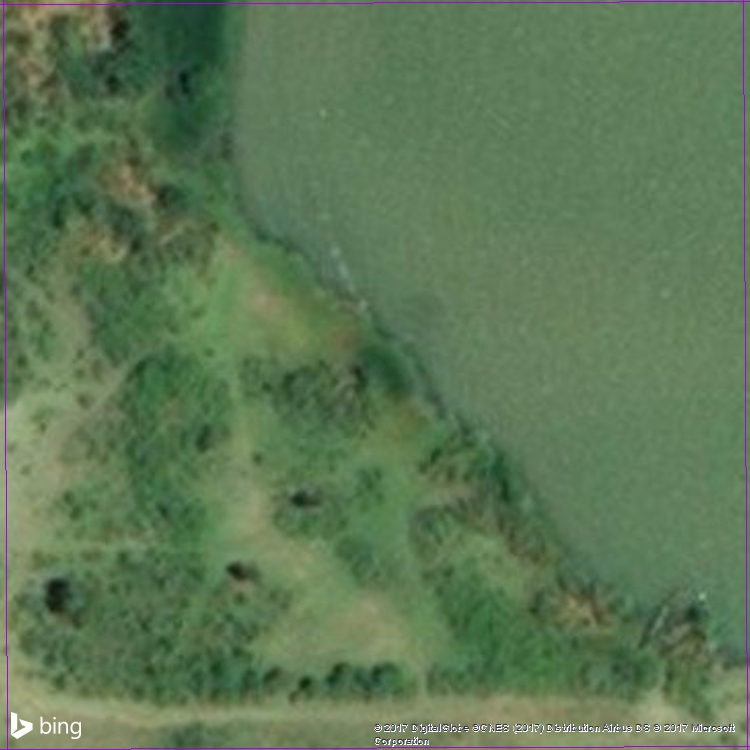boat: (637, 595, 674, 655), (657, 616, 699, 655), (665, 629, 705, 664)
